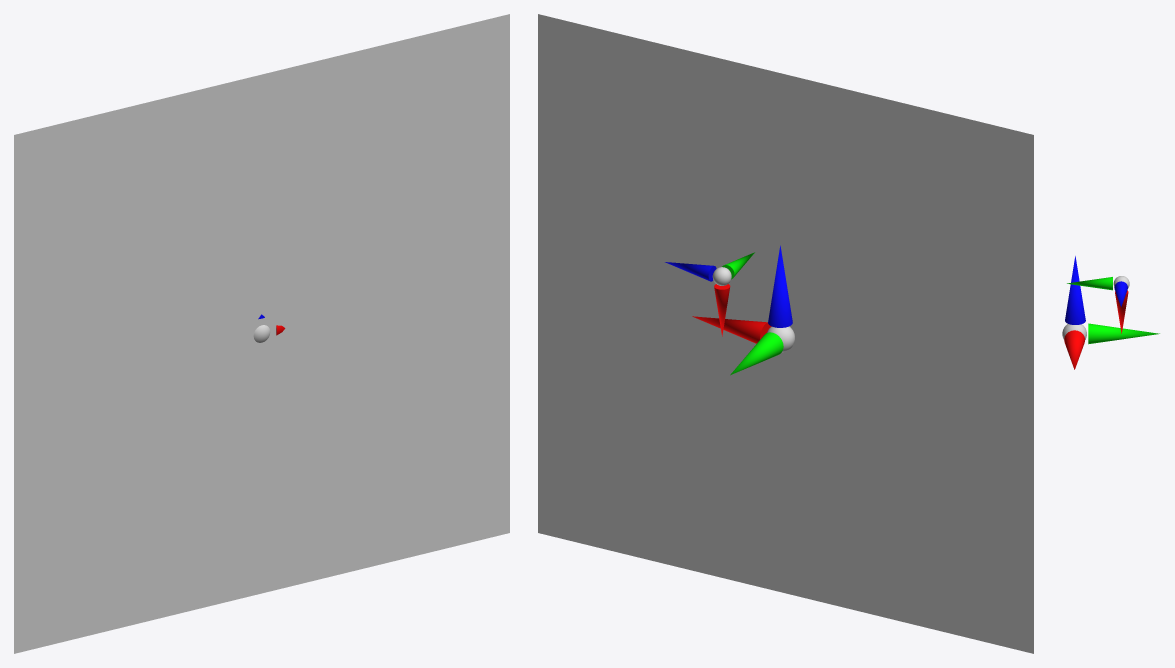
The model's file is simple_002_BakeMatrices_00.dae.
The picture shows the model from 3 angles, left to right: view 1: azimuth 30°, elevation 25°; view 2: azimuth 150°, elevation 25°; view 3: azimuth 270°, elevation 25°; orthographic projection. The views are drawn at different scales.
Visible parts, largest first — view 1: pPlane1; view 2: pPlane1, pCone3, pCone1, pCone2; view 3: pCone2 (×2), pCone3 (×2), pCone1 (×2), pSphere1.
Boxes of the visible parts, x1,y1,x2,y2 form: pPlane1: (14,14,509,653); pPlane1: (538,14,1033,653); pCone3: (768,245,792,327); pCone1: (692,316,771,343); pCone2: (730,332,783,375); pCone2 (×2): (1067,277,1159,344); pCone3 (×2): (1065,256,1127,324); pCone1 (×2): (1064,290,1128,369); pSphere1: (1062,324,1086,339).
Bounding box in the file's own units: 15.46 × 3.15 × 15.46.
